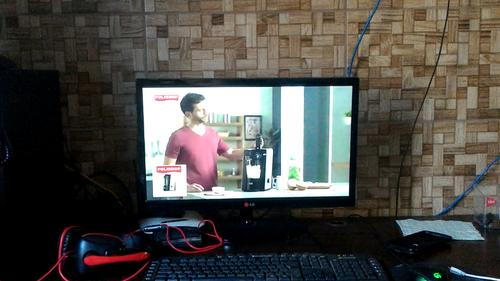Polishop #1: (152, 164, 187, 197)
